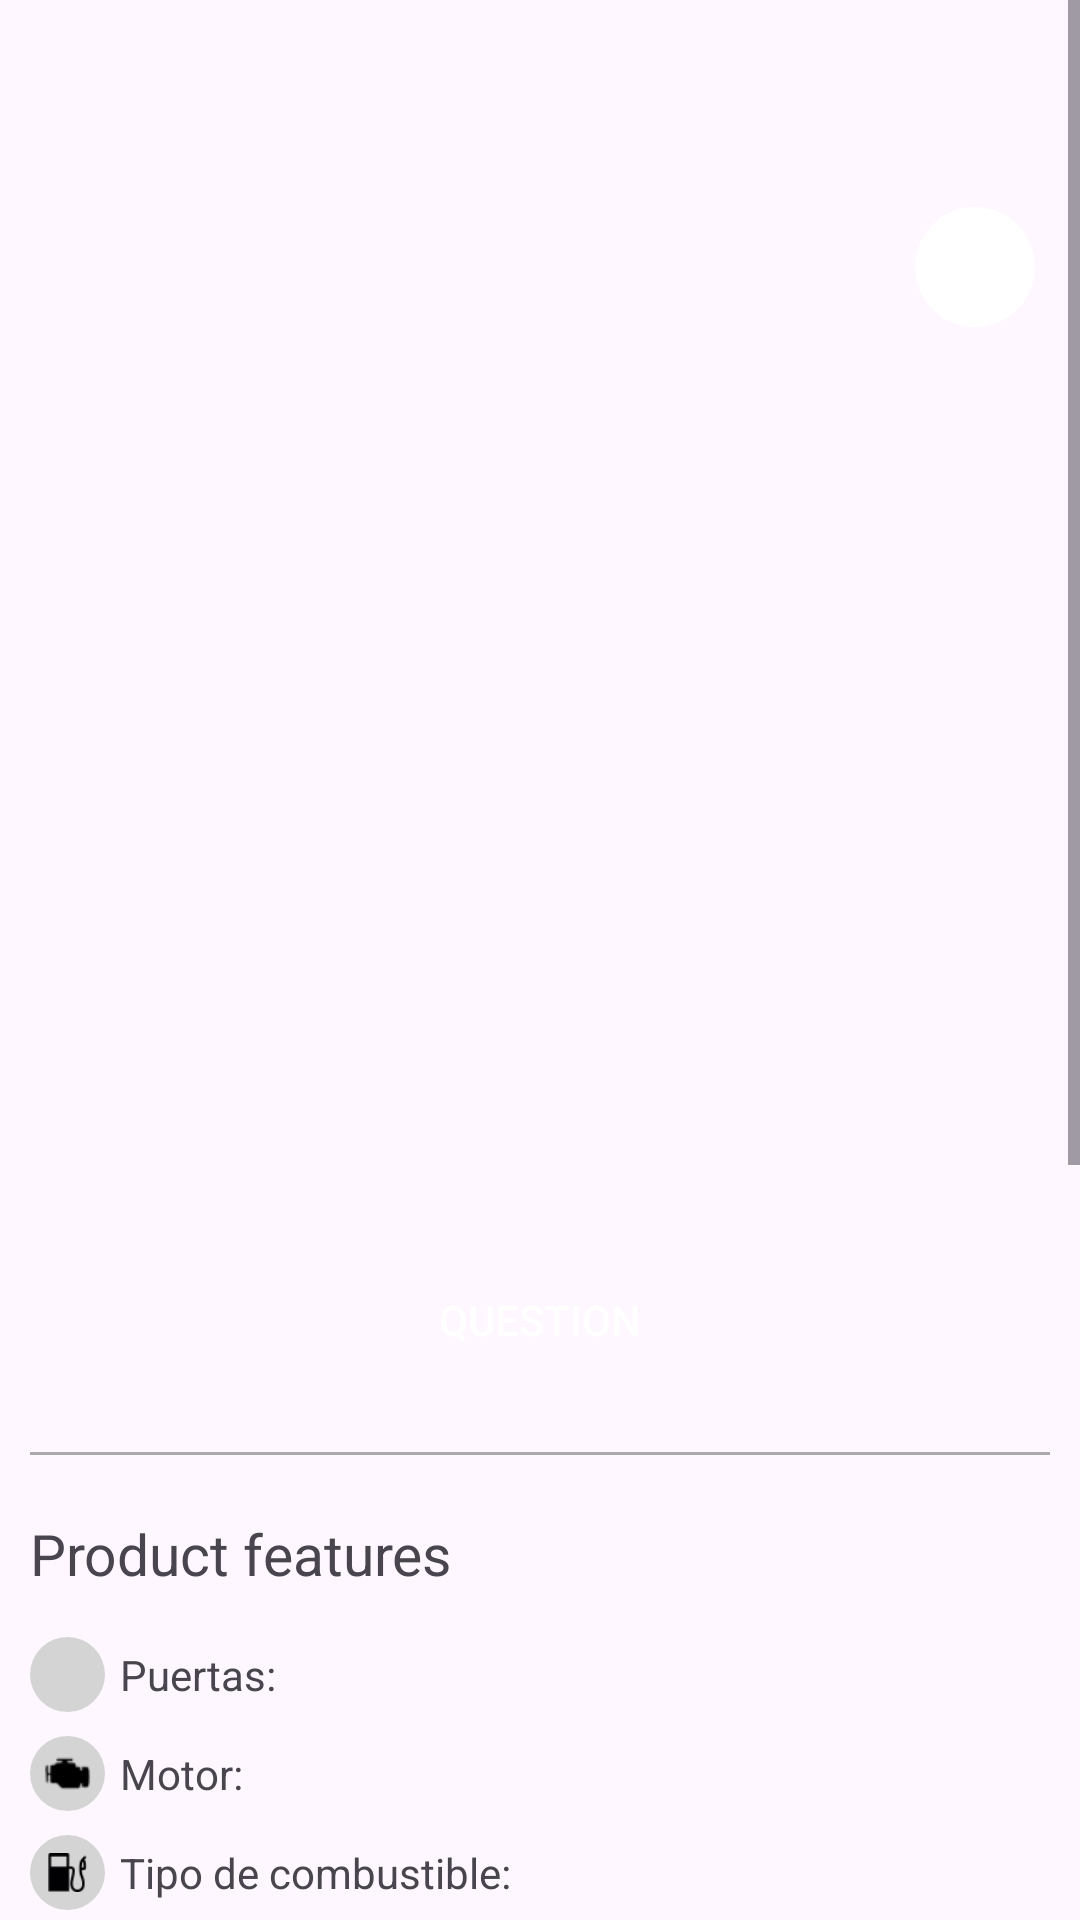

Screen size 1080 × 1920. Icon name, then its center in pixels as [x,y]:
Icon engine: [67,1773]
Icon fuel: [67,1872]
